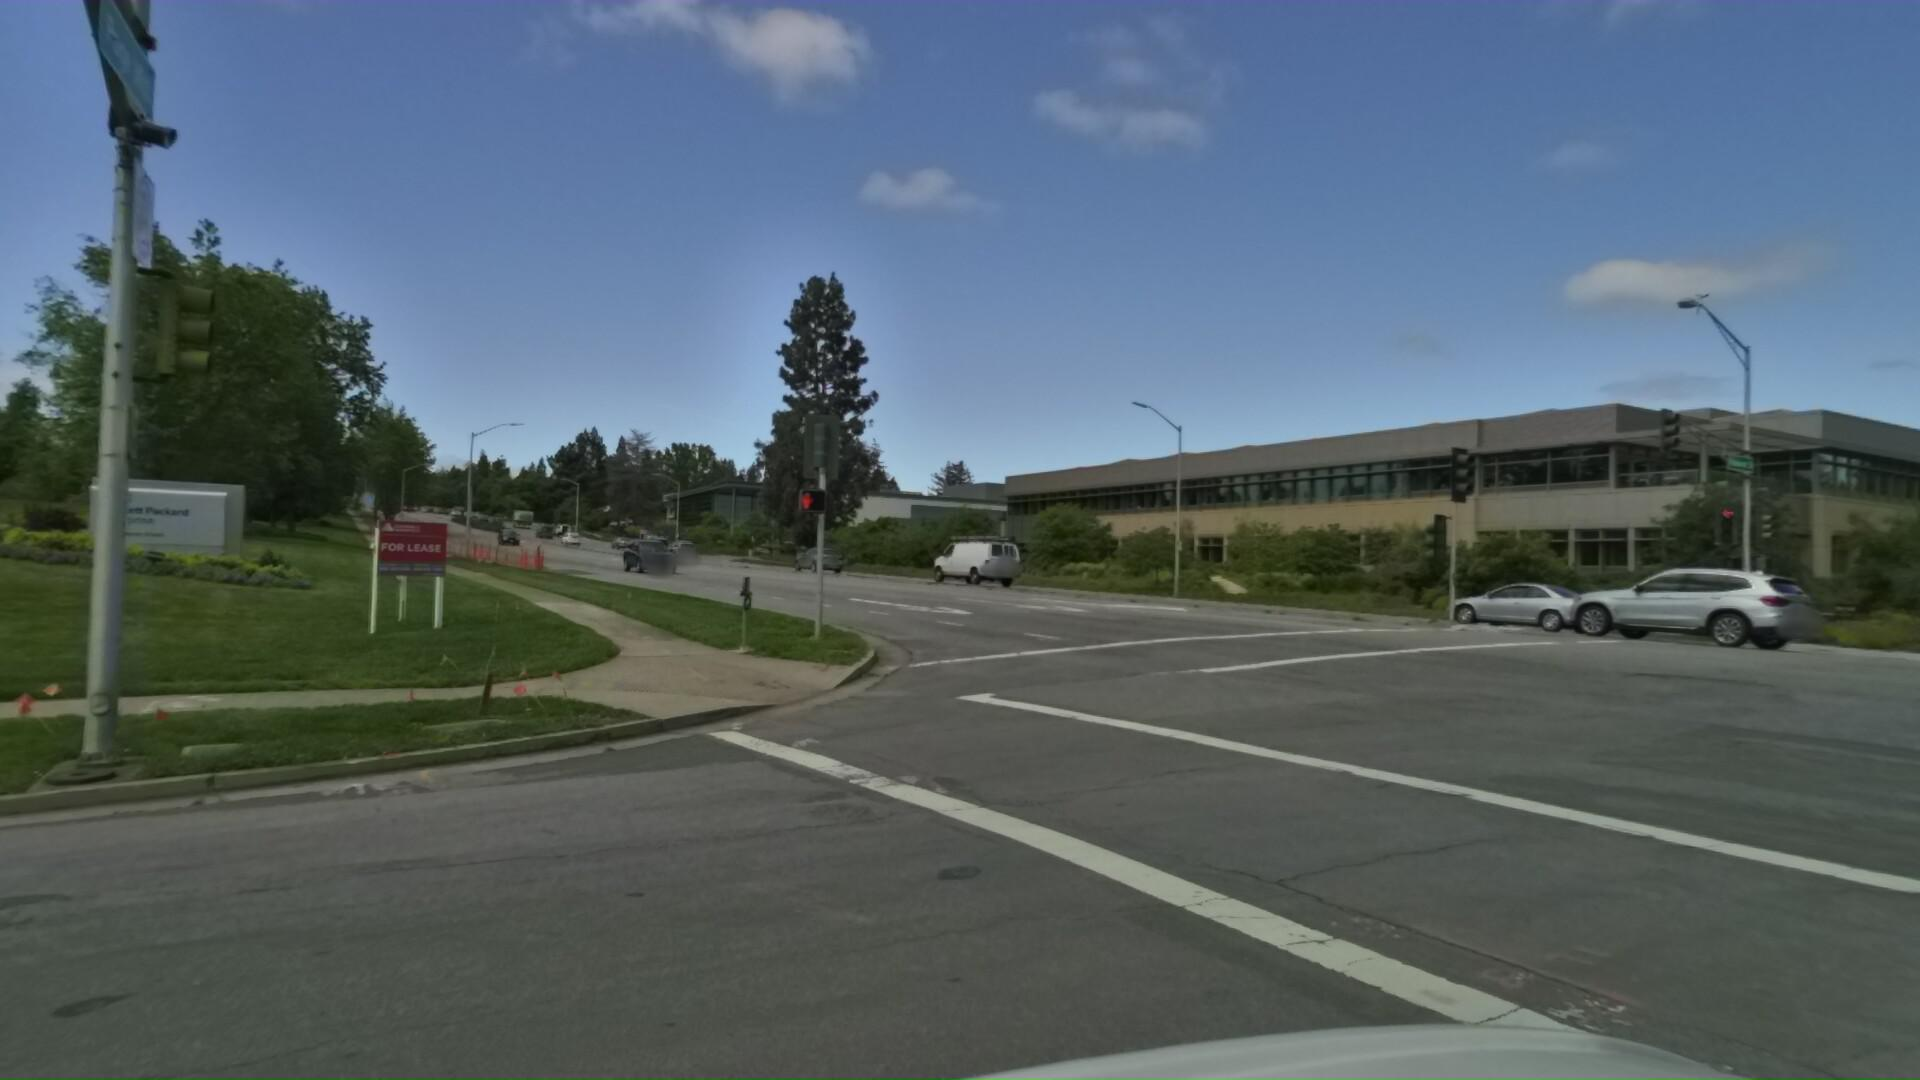car: (1526, 560, 1775, 646), (1415, 575, 1571, 624), (920, 527, 1019, 582), (620, 543, 683, 580), (786, 541, 845, 570)
